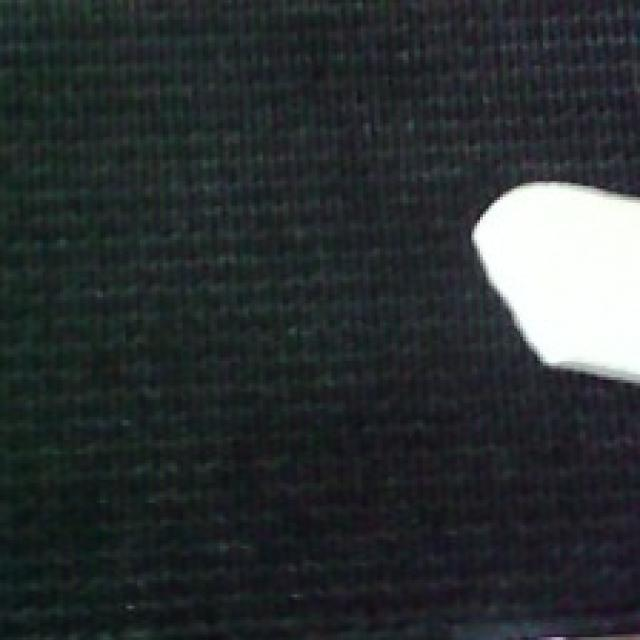defected: (465, 174, 640, 394)
